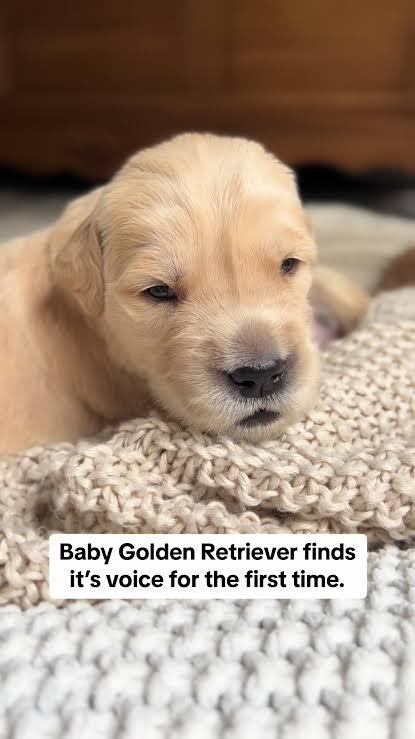puppy-dog: (0, 130, 327, 454)
